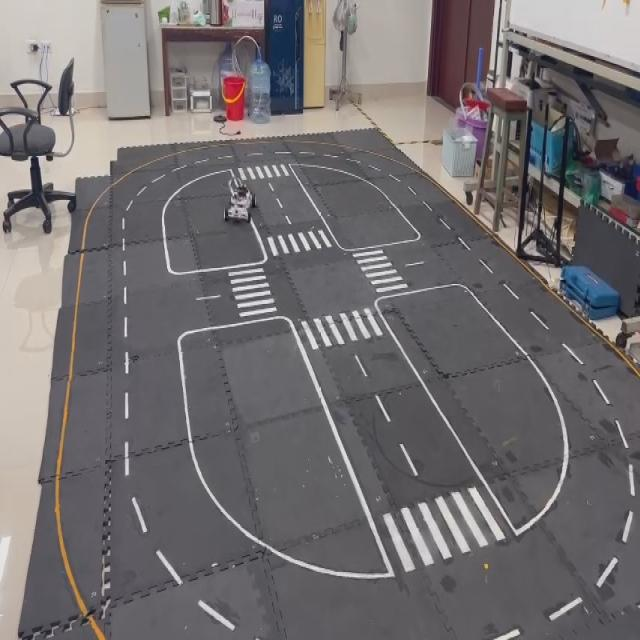SiCo-CAR: (223, 173, 256, 224)
